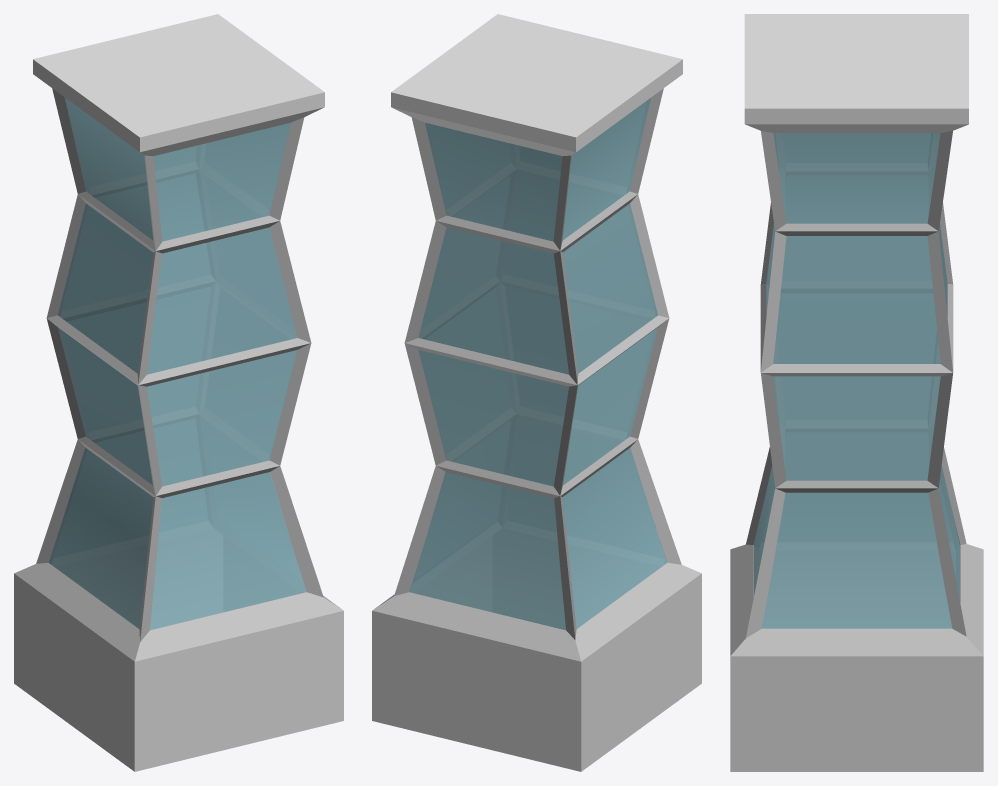
Rendered from jagged building.fbx.
3 renders of one model, left to right at view 1: azimuth 30°, elevation 25°; view 2: azimuth 150°, elevation 25°; view 3: azimuth 270°, elevation 25°, orthographic. The views are drawn at different scales.
Parts seen in each view (by area): view 1: Cube.004; view 2: Cube.004; view 3: Cube.004.
Part boxes in pixels (box(x1,y1,x2,y2)): Cube.004: box(14, 14, 343, 771); Cube.004: box(372, 14, 701, 771); Cube.004: box(730, 14, 983, 771).
Bounding box in the file's own units: 366 × 1047 × 366.
